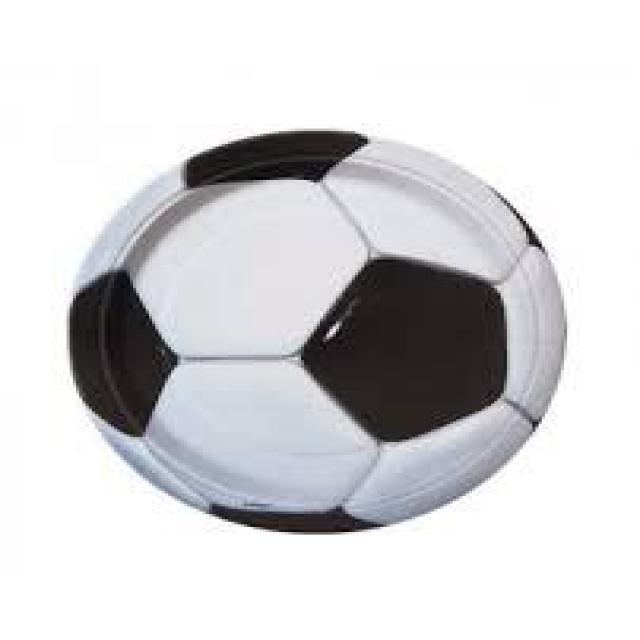Soccer Ball: (73, 129, 567, 537)
